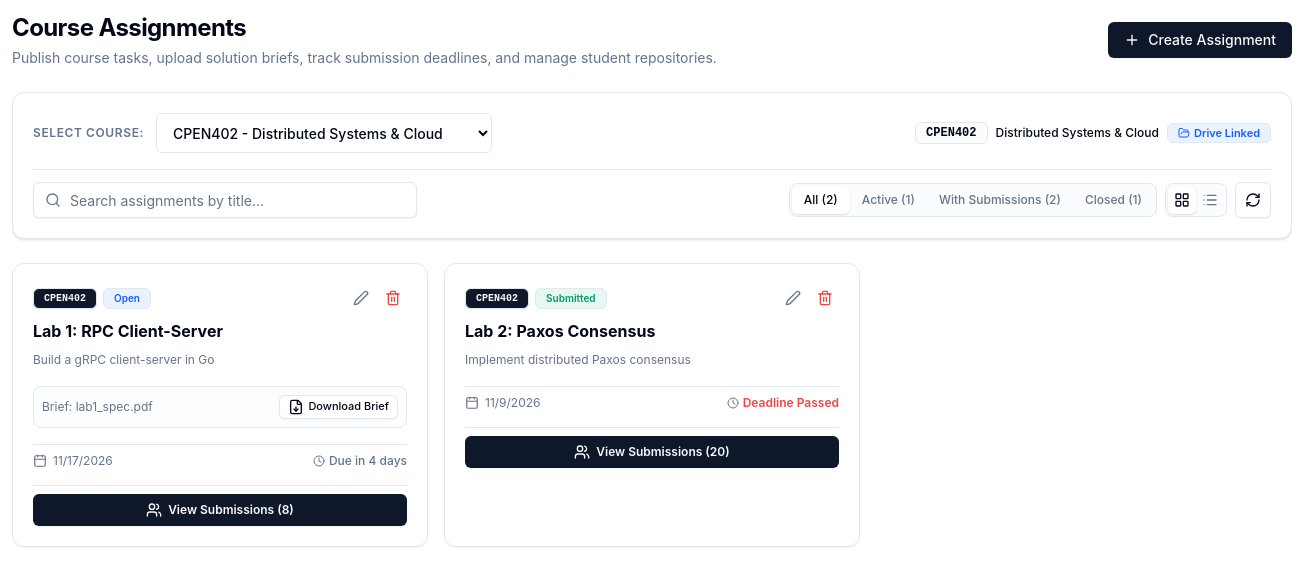
Test case: AssignmentsPage › filters assignments when status pills are clicked
Expected: the heading "Lab 1: RPC Client-Server" is shown, [33,321,223,341]
Expected: the heading "Lab 2: Paxos Consensus" is shown, [465,321,655,341]
# Click "Active (1)"
Click the button "Active (1)". click: click(888, 200)
box: [850,186,927,214]
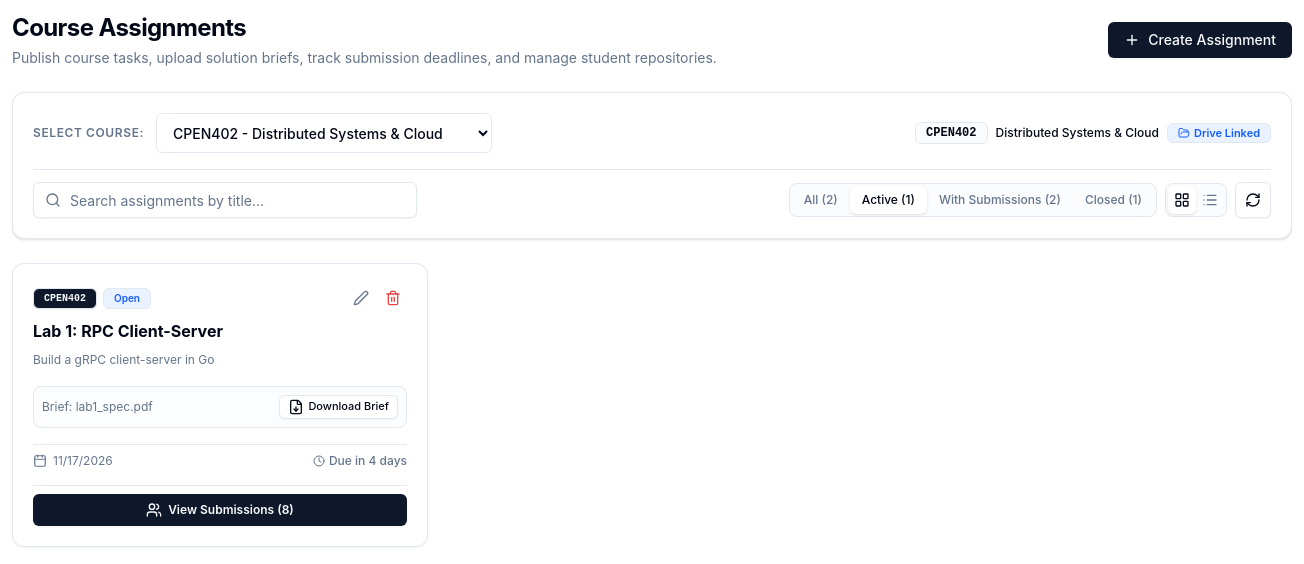
Expected: the heading "Lab 1: RPC Client-Server" is shown, [33,321,223,341]
Now the heading "Lab 2: Paxos Consensus" is gone
# Click "Closed (1)"
Click the button "Closed (1)". click: click(1114, 200)
box: [1073,186,1154,214]
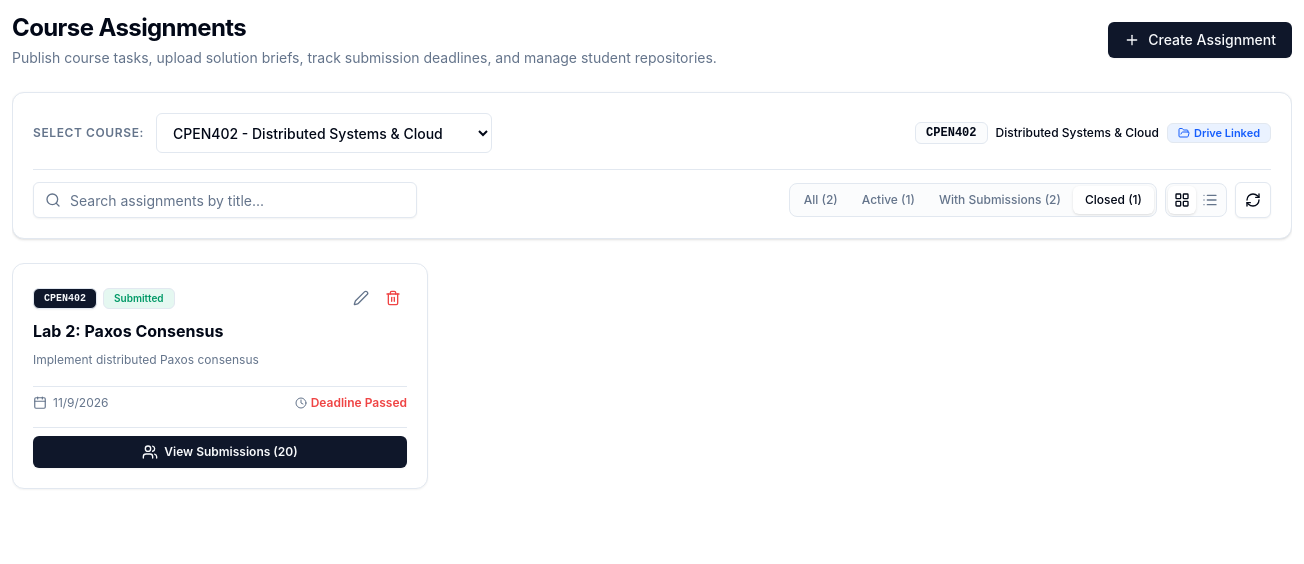
Now the heading "Lab 1: RPC Client-Server" is gone
Now the heading "Lab 2: Paxos Consensus" is shown, box [33,321,223,341]
